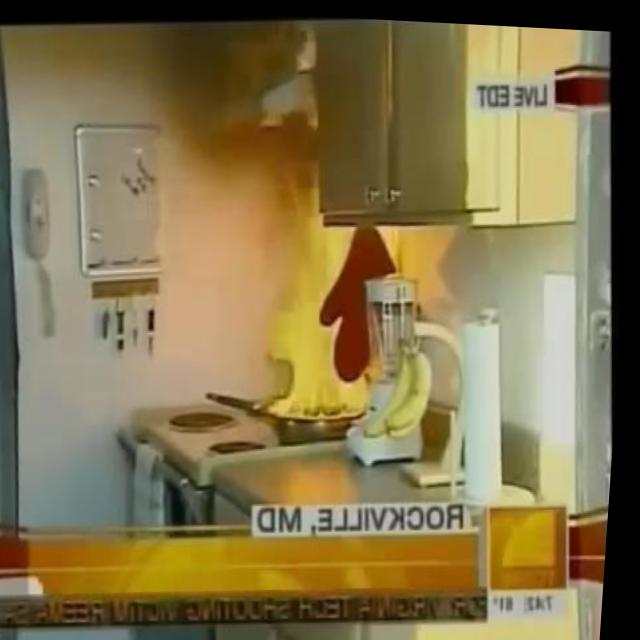fire: (257, 207, 384, 428)
